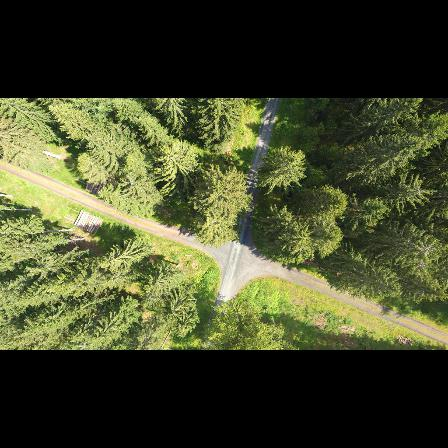Sick: (411, 234, 442, 264), (407, 251, 437, 281)
